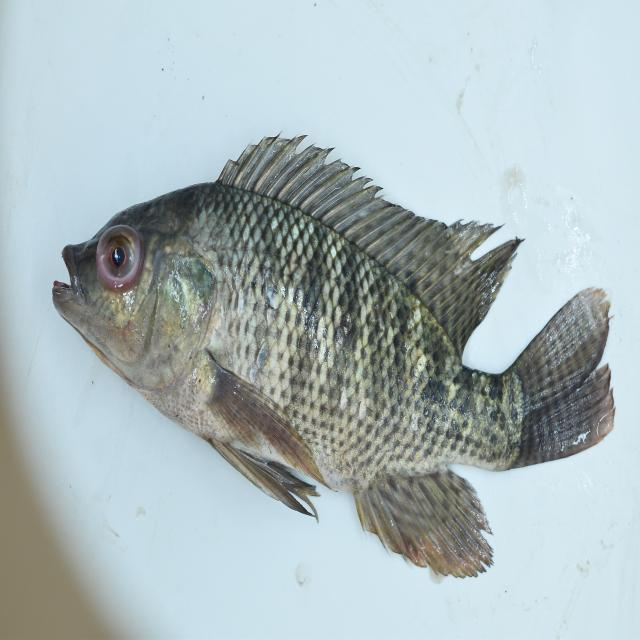Columnaris Disease: (41, 128, 616, 585)
